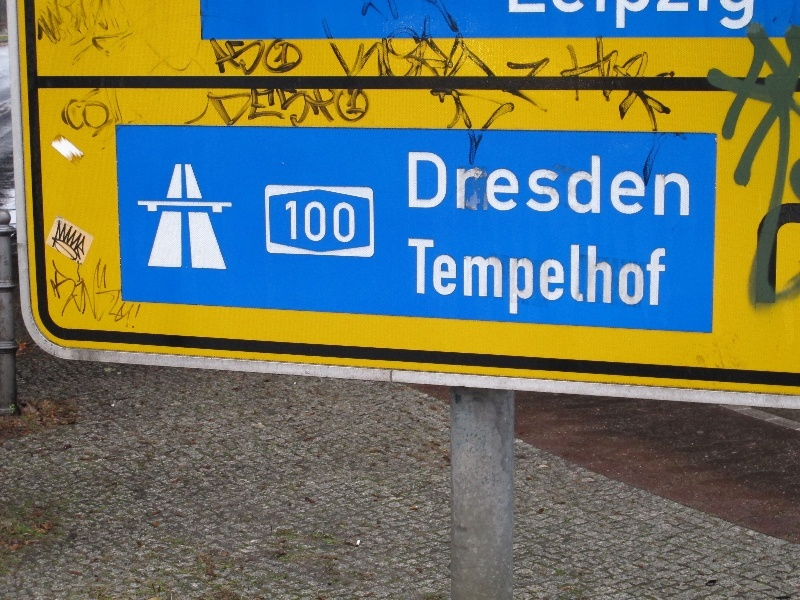text: (417, 239, 432, 322), (433, 239, 448, 322), (449, 239, 464, 322), (465, 239, 480, 322), (481, 239, 496, 322), (497, 239, 512, 322), (513, 239, 528, 322), (529, 239, 544, 322), (545, 239, 560, 322), (561, 239, 576, 322), (577, 239, 592, 322), (593, 239, 608, 322), (609, 239, 624, 322), (625, 239, 640, 322), (641, 239, 656, 322), (417, 152, 432, 218), (433, 152, 448, 218), (449, 152, 464, 218), (465, 152, 480, 218), (481, 152, 496, 218), (497, 152, 512, 218), (513, 152, 528, 218), (529, 152, 544, 218), (545, 152, 560, 218), (561, 152, 576, 218), (577, 152, 592, 218), (593, 152, 608, 218), (609, 152, 624, 218), (625, 152, 640, 218), (641, 152, 656, 218), (657, 152, 672, 218), (673, 152, 688, 218), (353, 84, 369, 131), (657, 239, 666, 322), (209, 84, 224, 131), (225, 84, 240, 131), (241, 84, 256, 131), (257, 84, 272, 131), (273, 84, 288, 131), (289, 84, 304, 131), (305, 84, 320, 131), (321, 84, 336, 131), (337, 84, 352, 131), (289, 36, 305, 78), (408, 239, 416, 322), (289, 201, 304, 243), (305, 201, 320, 243), (321, 201, 336, 243), (337, 201, 352, 243), (225, 36, 240, 78), (241, 36, 256, 78), (257, 36, 272, 78), (273, 36, 288, 78), (65, 99, 80, 136), (81, 99, 96, 136), (211, 36, 224, 78), (408, 152, 416, 218), (513, 1, 528, 31), (529, 1, 544, 31), (545, 1, 560, 31), (561, 1, 576, 31), (577, 1, 592, 31), (593, 1, 608, 31), (609, 1, 624, 31), (625, 1, 640, 31), (641, 1, 656, 31), (657, 1, 672, 31), (673, 1, 688, 31), (689, 1, 704, 31), (705, 1, 720, 31), (721, 1, 736, 31), (737, 1, 752, 31), (97, 99, 109, 136), (285, 201, 288, 243), (206, 84, 208, 131), (509, 1, 512, 31), (353, 201, 355, 243), (689, 152, 690, 218), (753, 1, 754, 31)
